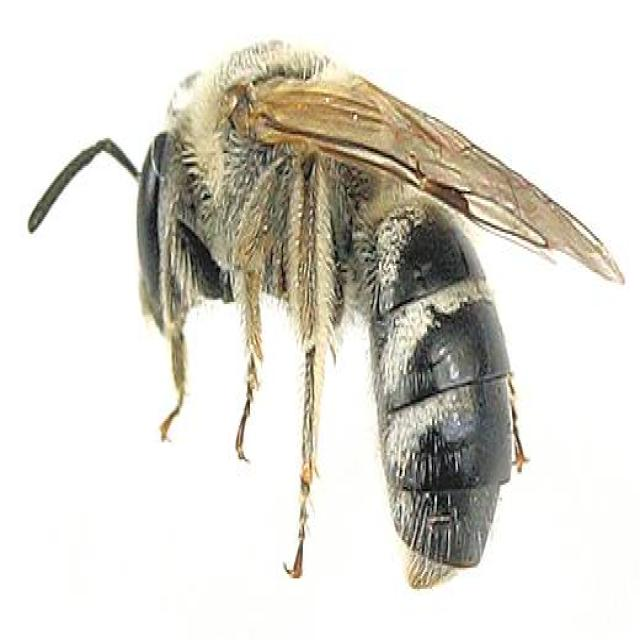Braunsapis: (26, 32, 628, 603)
